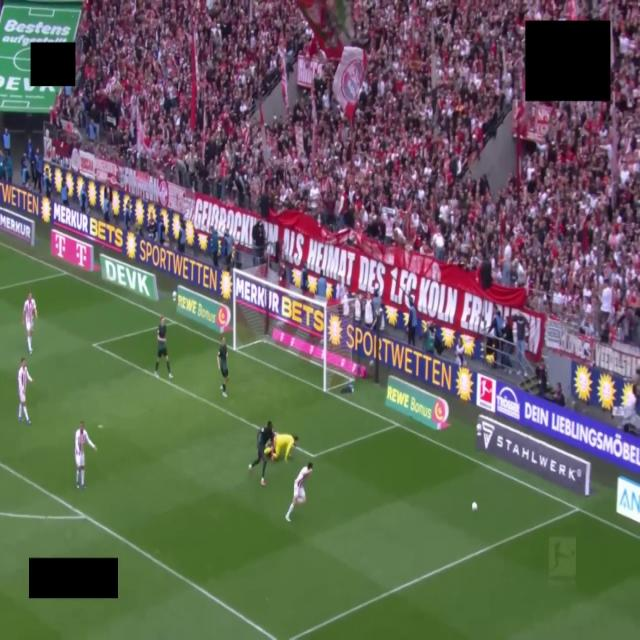ball: (472, 502, 477, 511)
player: (249, 421, 274, 486), (286, 463, 312, 521), (75, 422, 96, 488), (155, 317, 172, 379), (18, 358, 33, 423), (265, 433, 298, 461), (23, 293, 37, 354), (217, 337, 228, 397)
